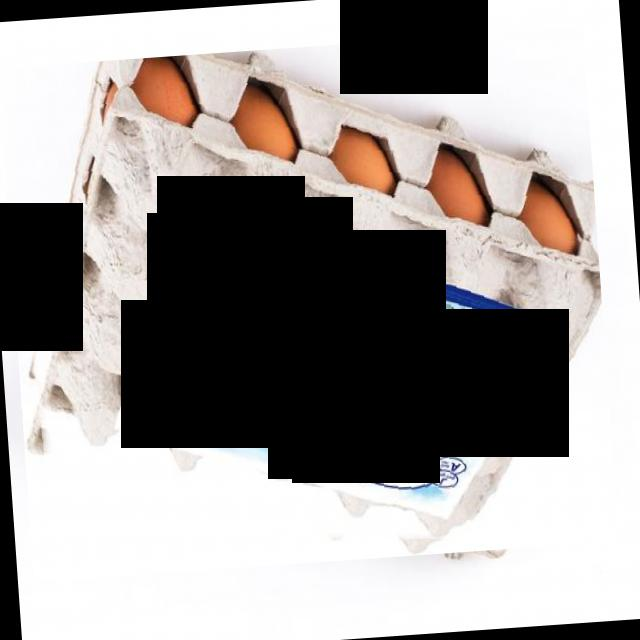eggs: (0, 27, 618, 582)
